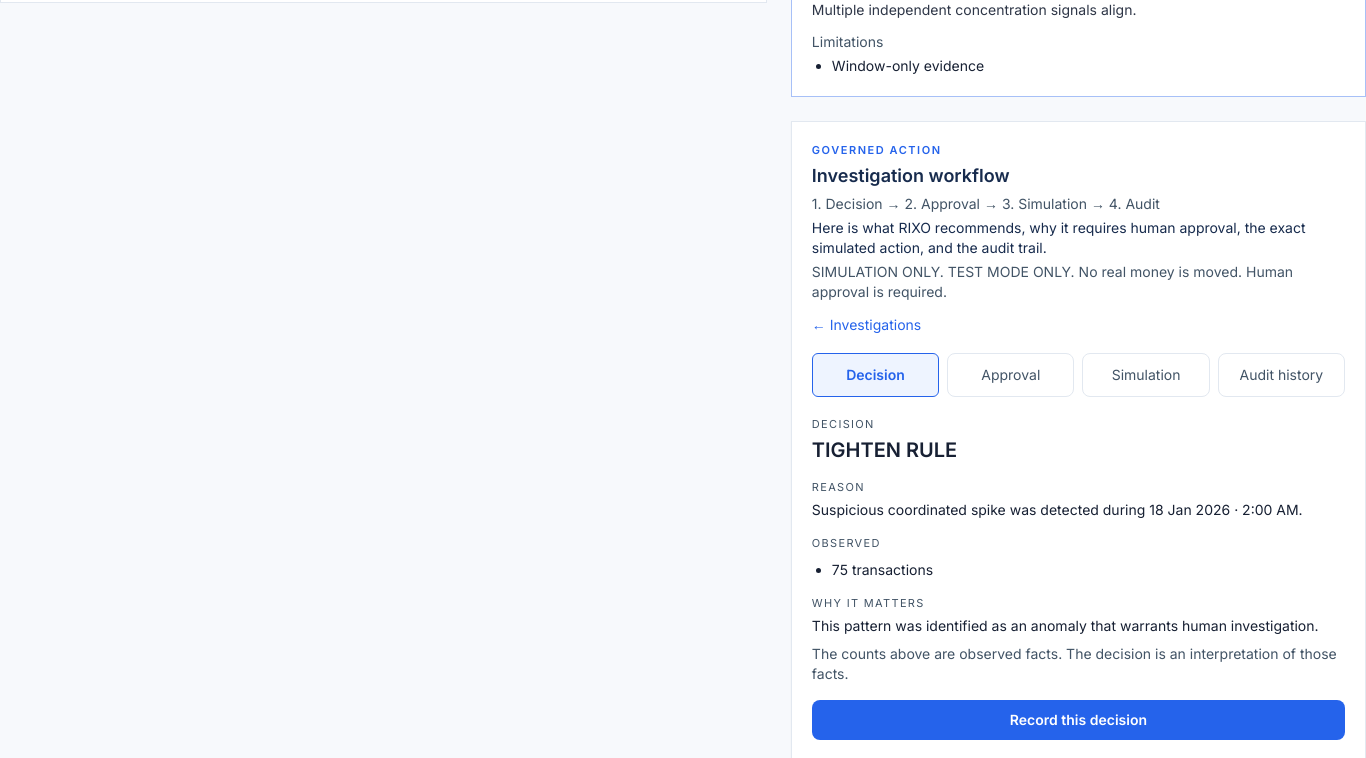
Audit history tab is empty before any action is recorded
(page scrolled)
Expected: the button "Record this decision" is shown, [812, 700, 1345, 740]
Click the tab "Audit history": {"x": 1281, "y": 375} [1218, 353, 1345, 397]
(page scrolled)
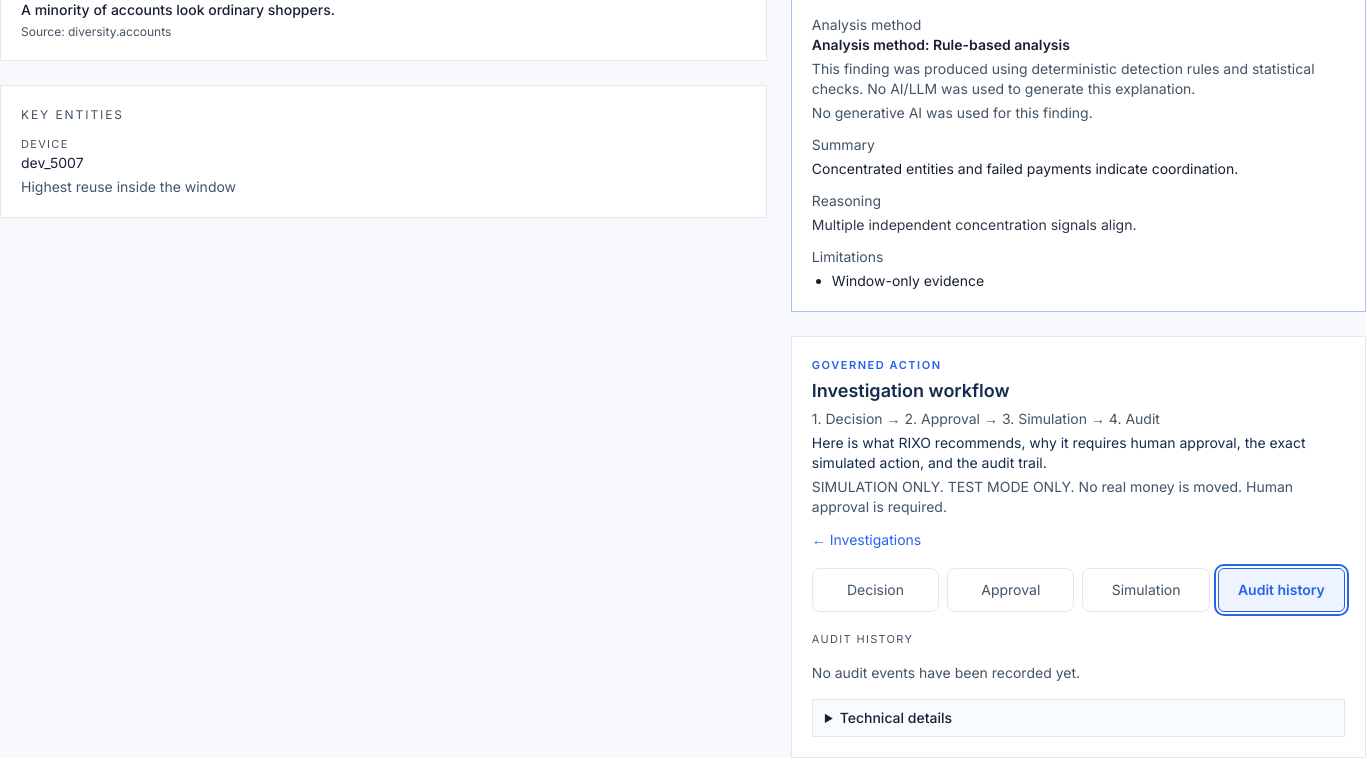
Expected: the text "Audit history" is shown, [812, 632, 913, 646]
Expected: the text "No audit events have been recorded yet." is shown, [812, 664, 1080, 681]
